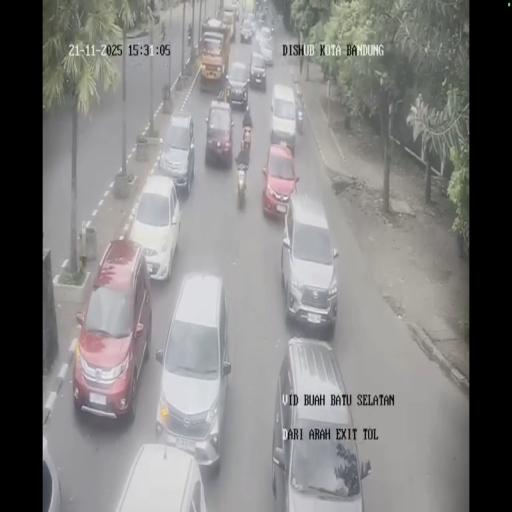car: (72, 240, 153, 418), (128, 175, 181, 281), (158, 114, 195, 195), (204, 97, 235, 168), (269, 82, 298, 153), (226, 60, 250, 110), (249, 50, 267, 88), (222, 0, 239, 23), (240, 16, 254, 42), (259, 26, 273, 48), (257, 10, 266, 24)
motorcycle: (236, 164, 247, 206), (240, 122, 252, 156), (187, 26, 192, 46), (270, 22, 274, 36)
truck: (199, 20, 233, 92)
